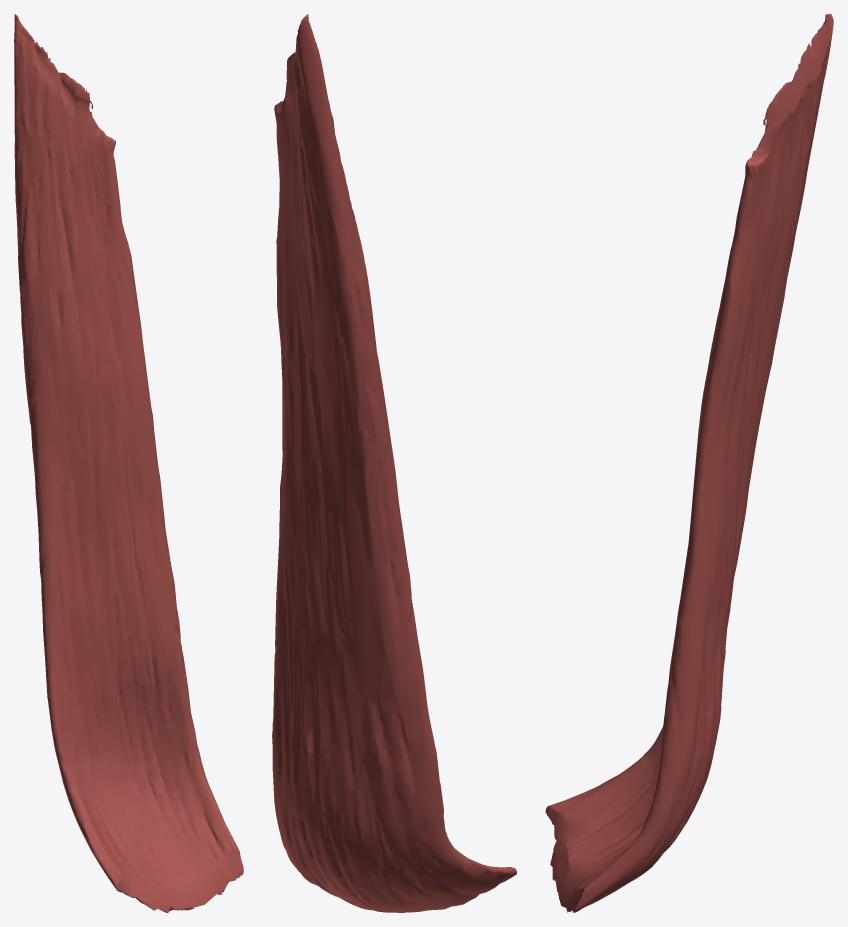
Rendered from FMA13350.glb.
3 views of the same model, side by side, from view 1: azimuth 30°, elevation 25°; view 2: azimuth 150°, elevation 25°; view 3: azimuth 270°, elevation 25° (orthographic). The views are drawn at different scales.
Visible parts, largest first — view 1: FMA13350; view 2: FMA13350; view 3: FMA13350.
Part boxes in pixels (x1,y1,x2,y2): FMA13350: (14,14,243,912); FMA13350: (272,14,516,912); FMA13350: (545,14,833,912).
Size of the model in its own units: 0.0177 by 0.0957 by 0.0291.
